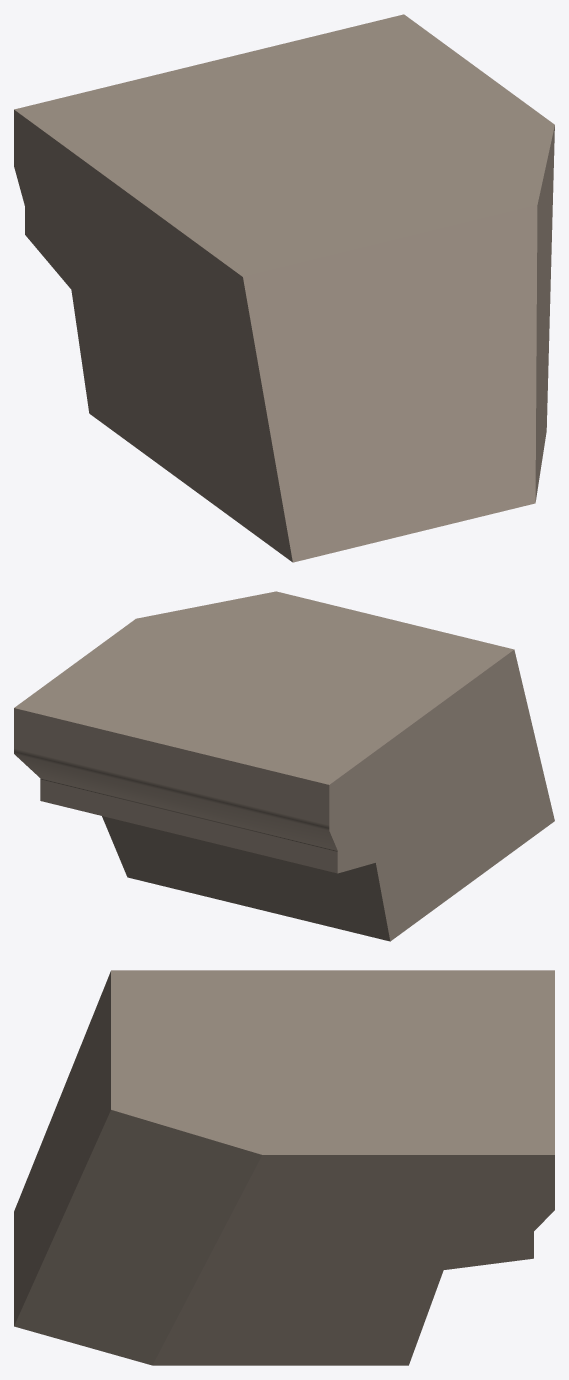
File: Front_left_edge_broken_balcony_3.fbx
3 renders of one model, top to bottom at view 1: azimuth 30°, elevation 25°; view 2: azimuth 150°, elevation 25°; view 3: azimuth 270°, elevation 25°, orthographic. The views are drawn at different scales.
Visible parts, largest first — view 1: polySurface604; view 2: polySurface604; view 3: polySurface604.
Boxes of the visible parts, box(x1,y1,x2,y2) form: polySurface604: box(14, 14, 554, 562); polySurface604: box(14, 591, 554, 941); polySurface604: box(14, 970, 554, 1365).
Bounding box in the file's own units: 0.8456 × 0.5154 × 1.05.
